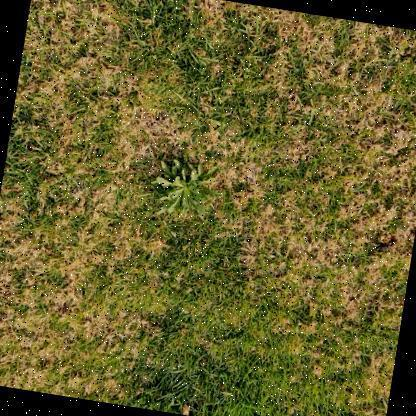Weeds: (146, 155, 226, 225)
